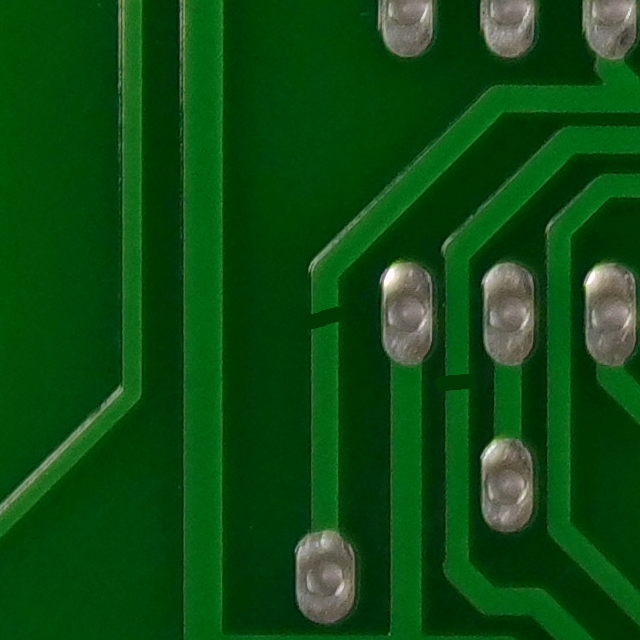open_circuit: (287, 291, 354, 350), (433, 363, 487, 406)
